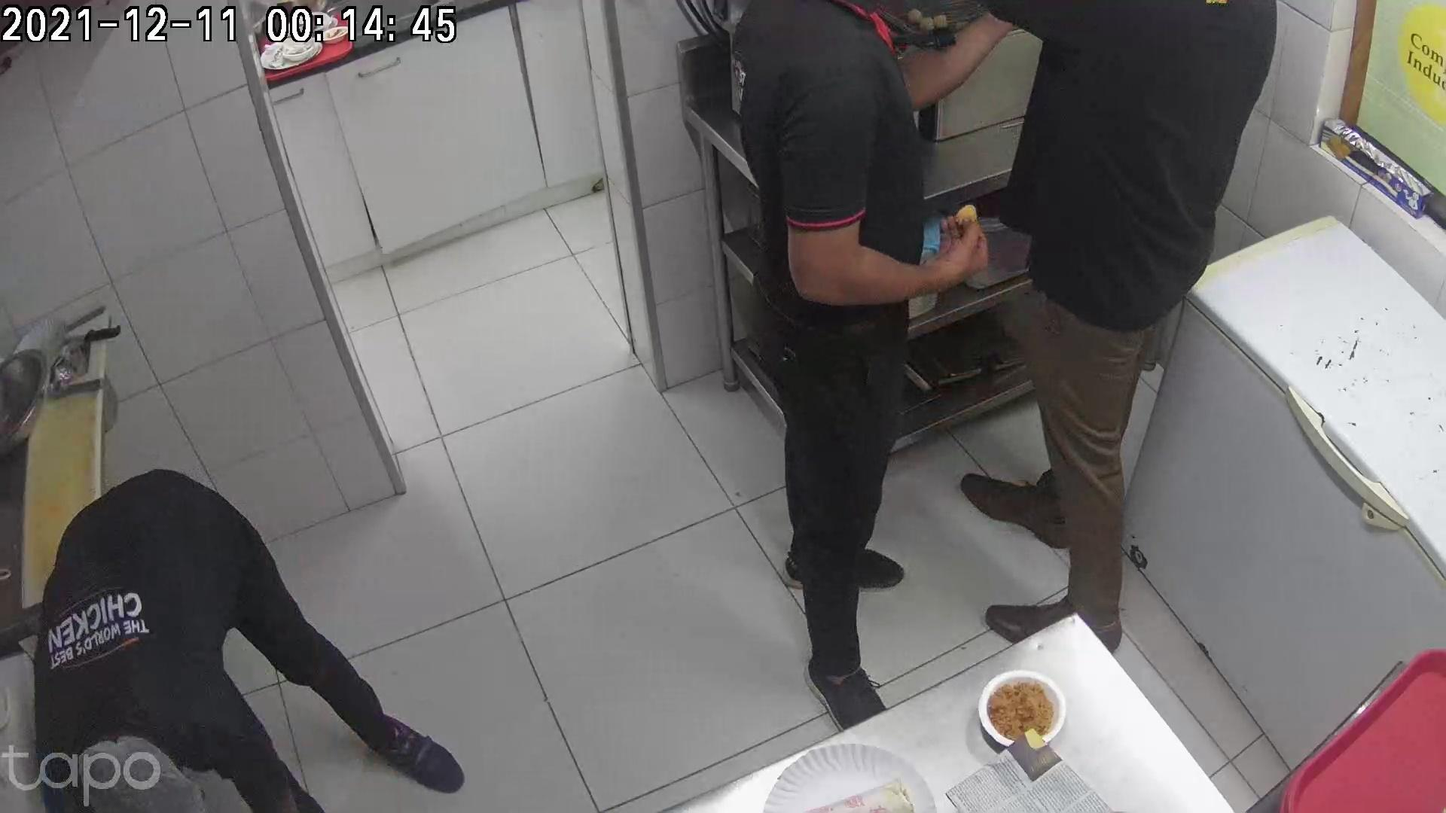no_gloves: (540, 470, 614, 606)
